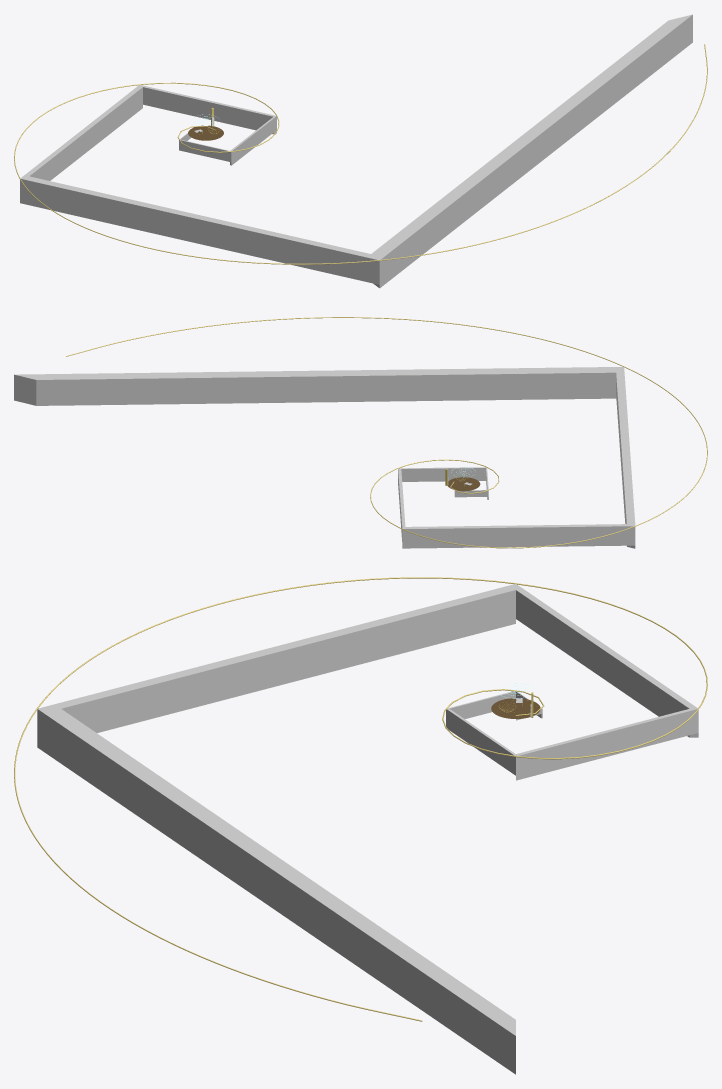
Rendered from build-phi.gltf.
The picture shows the model from 3 angles, top to bottom: view 1: azimuth 30°, elevation 25°; view 2: azimuth 150°, elevation 25°; view 3: azimuth 270°, elevation 25°; orthographic projection. The views are drawn at different scales.
Bounding box in the file's own units: 987 × 63.1 × 631.
